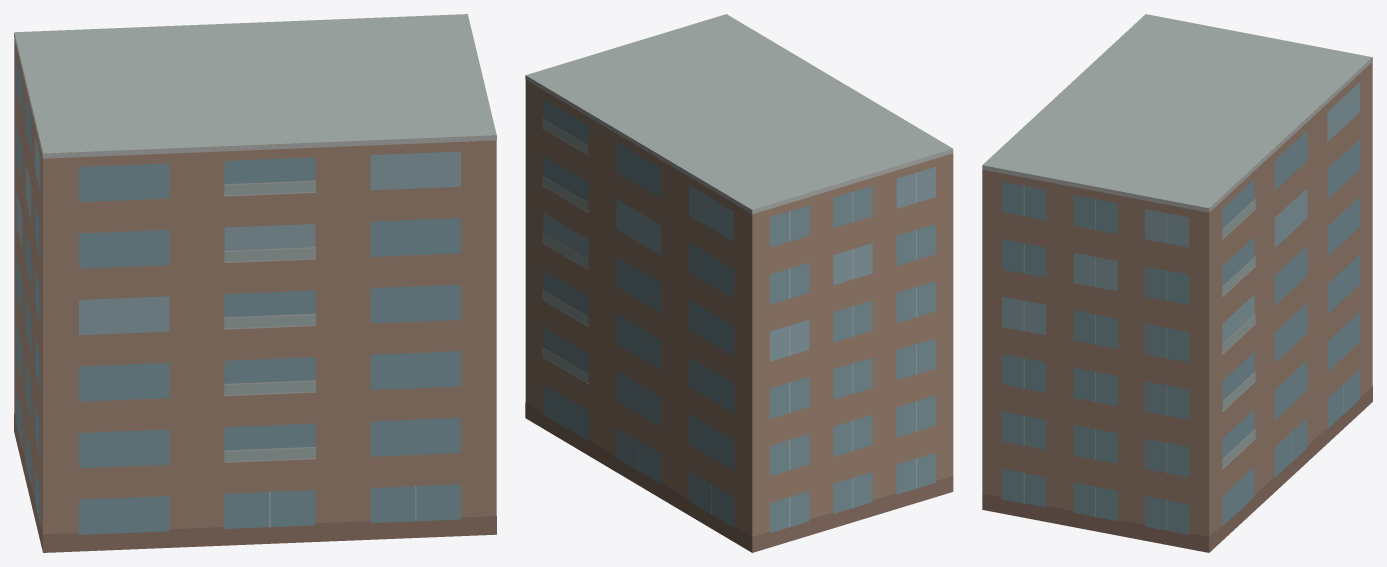
File: survey-upis-33014526.glb
3 renders of one model, left to right at view 1: azimuth 30°, elevation 25°; view 2: azimuth 150°, elevation 25°; view 3: azimuth 270°, elevation 25°, orthographic. The views are drawn at different scales.
Parts seen in each view (by area): view 1: survey-upis-33014526.tmp; view 2: survey-upis-33014526.tmp; view 3: survey-upis-33014526.tmp.
Part boxes in pixels (left/top/right/bottom): survey-upis-33014526.tmp: left=14, top=14, right=496, bottom=552; survey-upis-33014526.tmp: left=525, top=14, right=953, bottom=552; survey-upis-33014526.tmp: left=982, top=14, right=1372, bottom=552.
Bounding box in the file's own units: 22.98 × 19 × 19.52.
